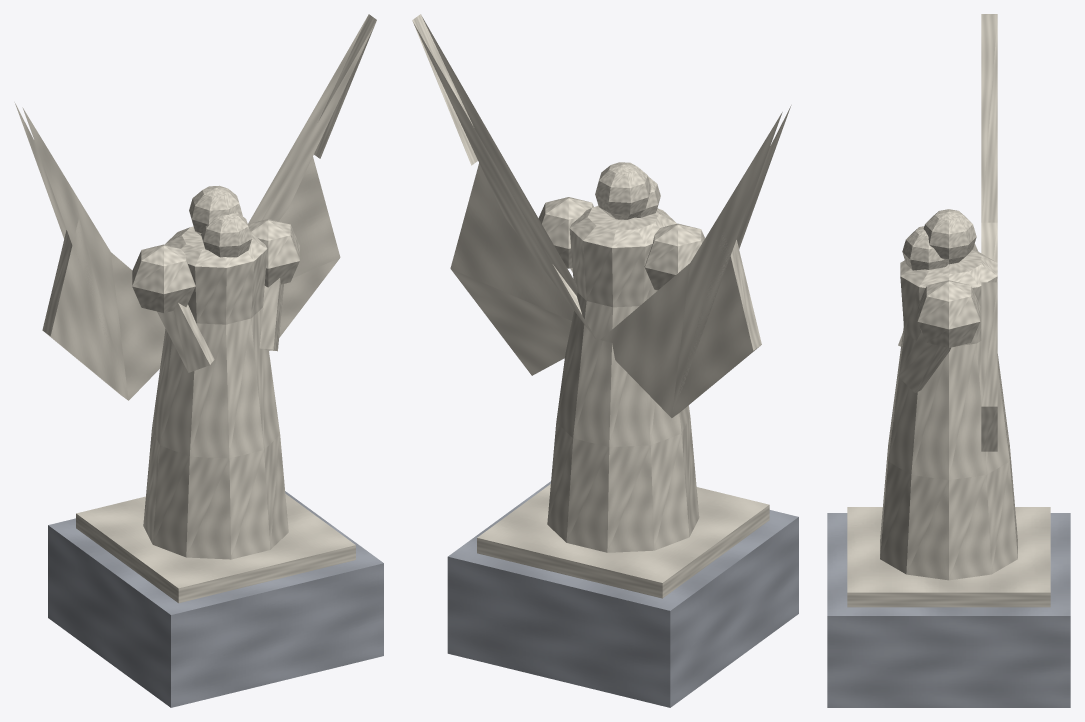
File: vampire-crypt-and-gothic-cathedral-angel-statue-ea3e1925.glb
3 views of the same model, side by side, from view 1: azimuth 30°, elevation 25°; view 2: azimuth 150°, elevation 25°; view 3: azimuth 270°, elevation 25° (orthographic). The views are drawn at different scales.
Parts seen in each view (by area): view 1: angel-statue; view 2: angel-statue; view 3: angel-statue.
Boxes of the visible parts, <box> form: angel-statue: <box>14,14,383,707</box>; angel-statue: <box>412,14,798,707</box>; angel-statue: <box>827,14,1070,707</box>.
Size of the model in its own units: 2 by 3.03 by 1.2.
Materials: 2 (2 with a texture image).
